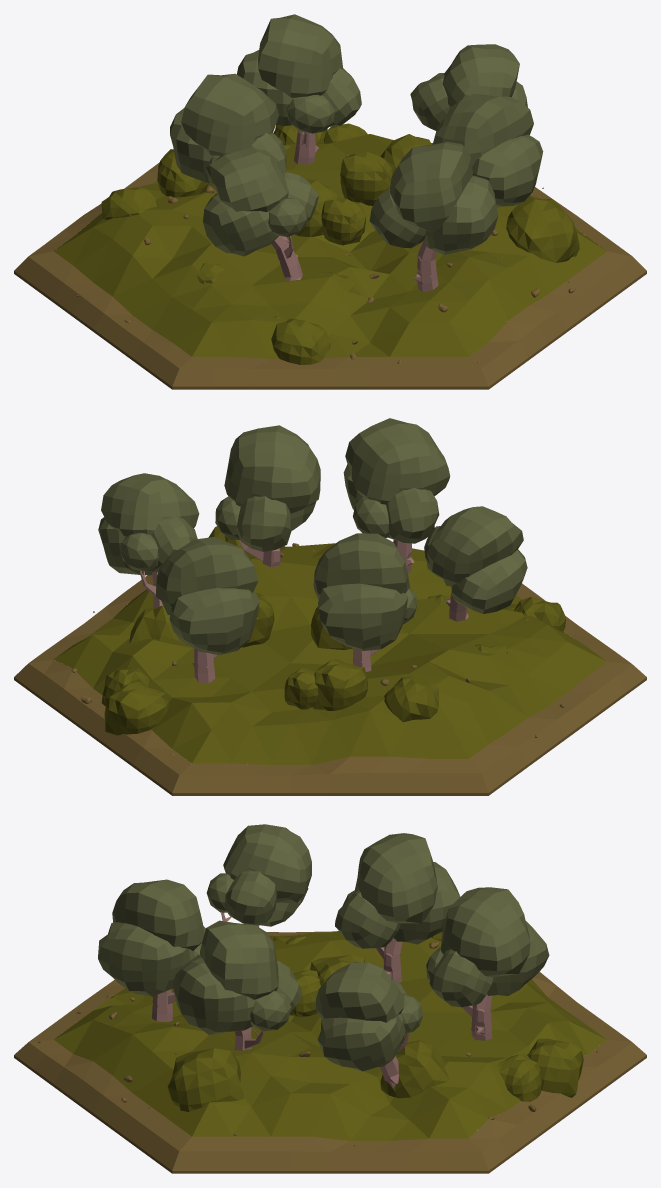
Rendered from tropicalRainforest.glb.
The picture shows the model from 3 angles, top to bottom: view 1: azimuth 30°, elevation 25°; view 2: azimuth 150°, elevation 25°; view 3: azimuth 270°, elevation 25°; orthographic projection.
Parts seen in each view (by area): view 1: land, big_details; view 2: land, big_details; view 3: land, big_details.
Boxes of the visible parts, x1,y1,x2,y2 form: land: (14, 123, 646, 389); big_details: (170, 14, 543, 291); land: (14, 526, 646, 795); big_details: (98, 418, 527, 683); land: (14, 931, 646, 1173); big_details: (98, 824, 549, 1088).
Size of the model in its own units: 1.73 by 0.6744 by 2.
